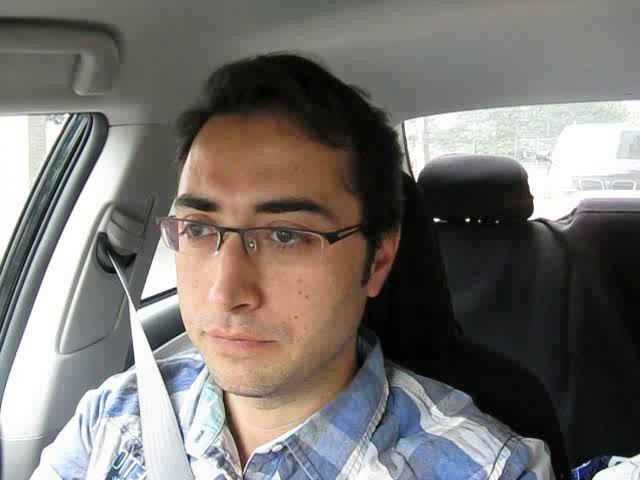no_yawn: (190, 318, 295, 364)
open_eyeL: (165, 211, 222, 255)
open_eyeR: (250, 214, 324, 263)
